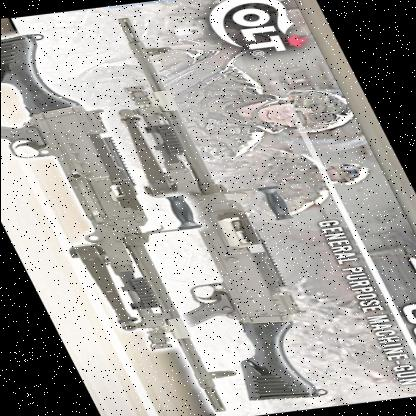rifle: (62, 26, 354, 406), (0, 27, 254, 416)
